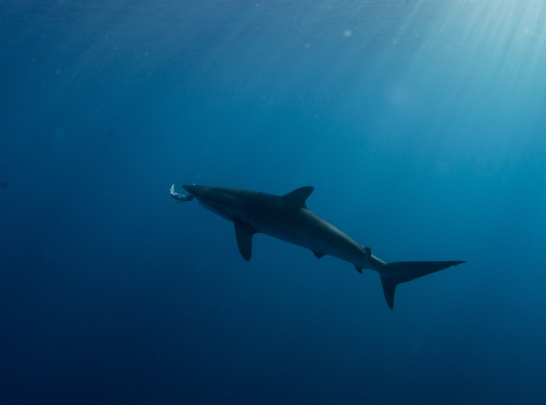Sedoso: (172, 167, 473, 323)
